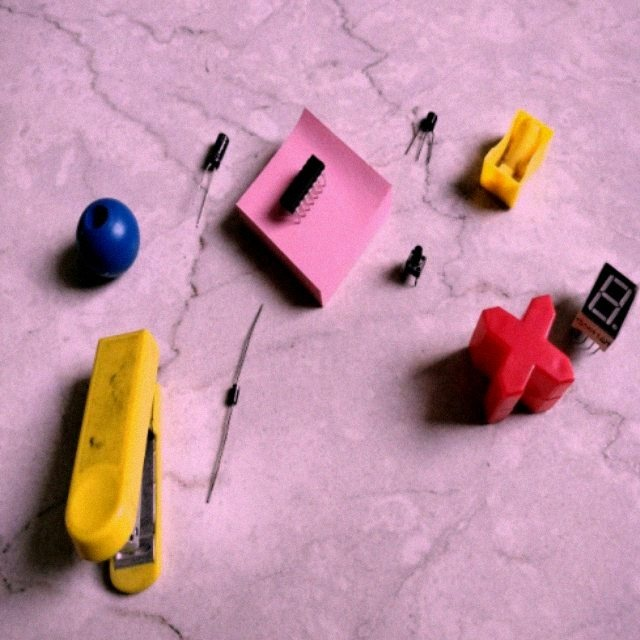capacitor: (205, 133, 229, 169)
